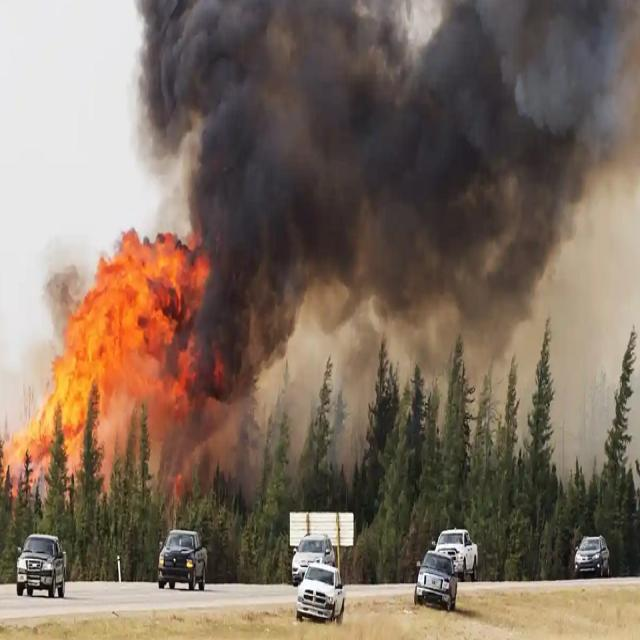Fire: (0, 209, 237, 511)
